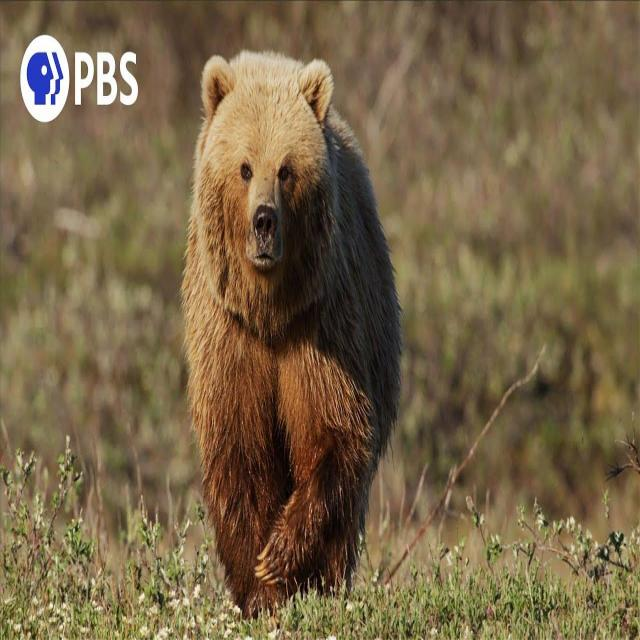Bear: (182, 51, 403, 620)
